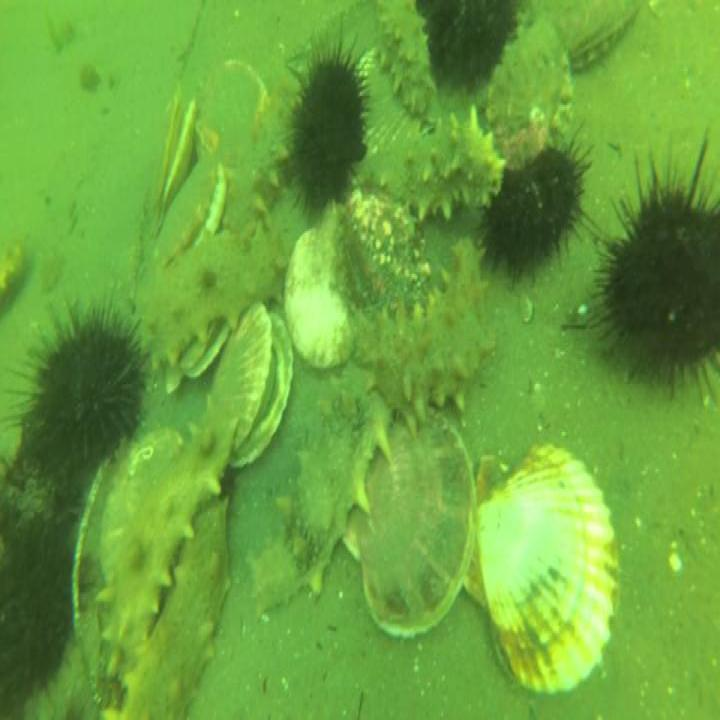echinus: (597, 157, 720, 391), (17, 310, 146, 500), (481, 131, 589, 284), (0, 510, 79, 706), (287, 45, 366, 221), (420, 0, 518, 92)
holothurian: (246, 380, 394, 627), (99, 489, 232, 720), (92, 444, 221, 681), (349, 234, 496, 434), (136, 226, 286, 370), (363, 105, 504, 224), (377, 0, 437, 117), (225, 137, 288, 238)
scallop: (461, 439, 622, 697), (343, 404, 481, 642), (99, 421, 185, 588), (209, 300, 293, 470), (283, 206, 354, 374), (148, 153, 228, 275), (353, 39, 425, 160), (147, 84, 198, 240), (192, 57, 269, 153), (161, 320, 227, 400)
